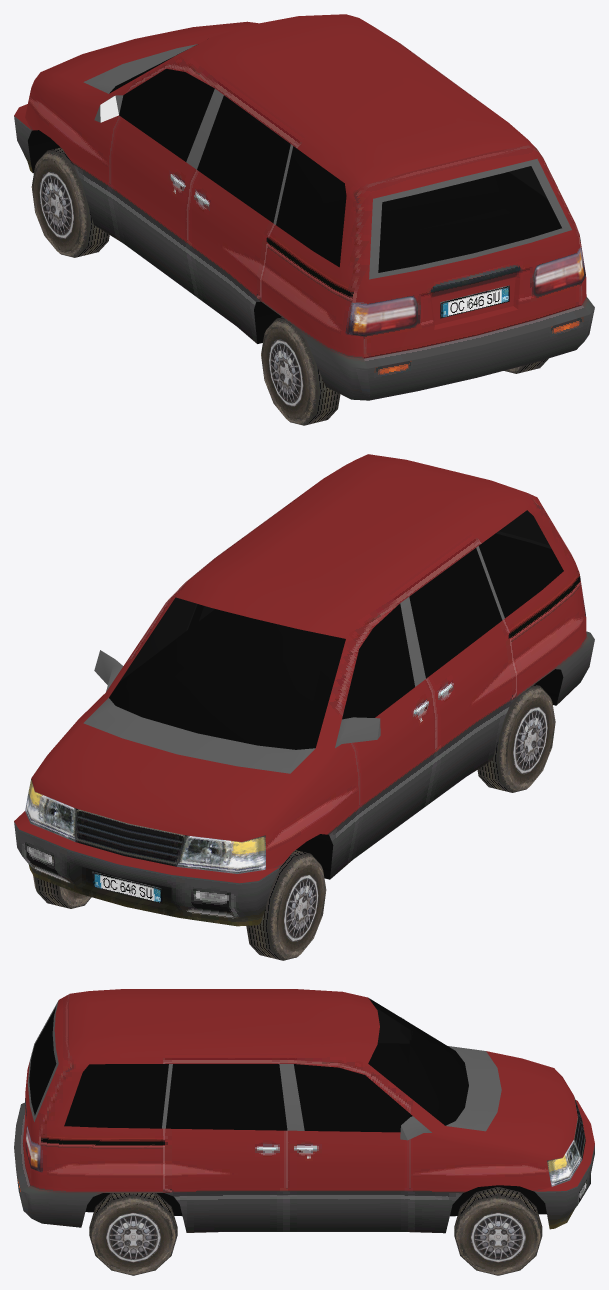
Rendered from othcar-08.glb.
3 views of the same model, one above another, from view 1: azimuth 30°, elevation 25°; view 2: azimuth 150°, elevation 25°; view 3: azimuth 270°, elevation 25° (orthographic). The views are drawn at different scales.
Visible parts, largest first — view 1: body, wheel FL, wheel RL; view 2: body, wheel RL, wheel FL, wheel RR; view 3: body, wheel RR, wheel FR.
Part boxes in pixels (x1,y1,x2,y2): body: (14,14,594,400); wheel FL: (261,317,340,425); wheel RL: (31,147,109,257); body: (14,454,594,926); wheel RL: (246,850,326,960); wheel FL: (477,684,555,792); wheel RR: (33,875,91,908); body: (14,989,594,1233); wheel RR: (454,1187,542,1275); wheel FR: (89,1193,177,1275).
Size of the model in its own units: 2.07 by 1.86 by 4.62.
Materials: 10 (5 with a texture image).
